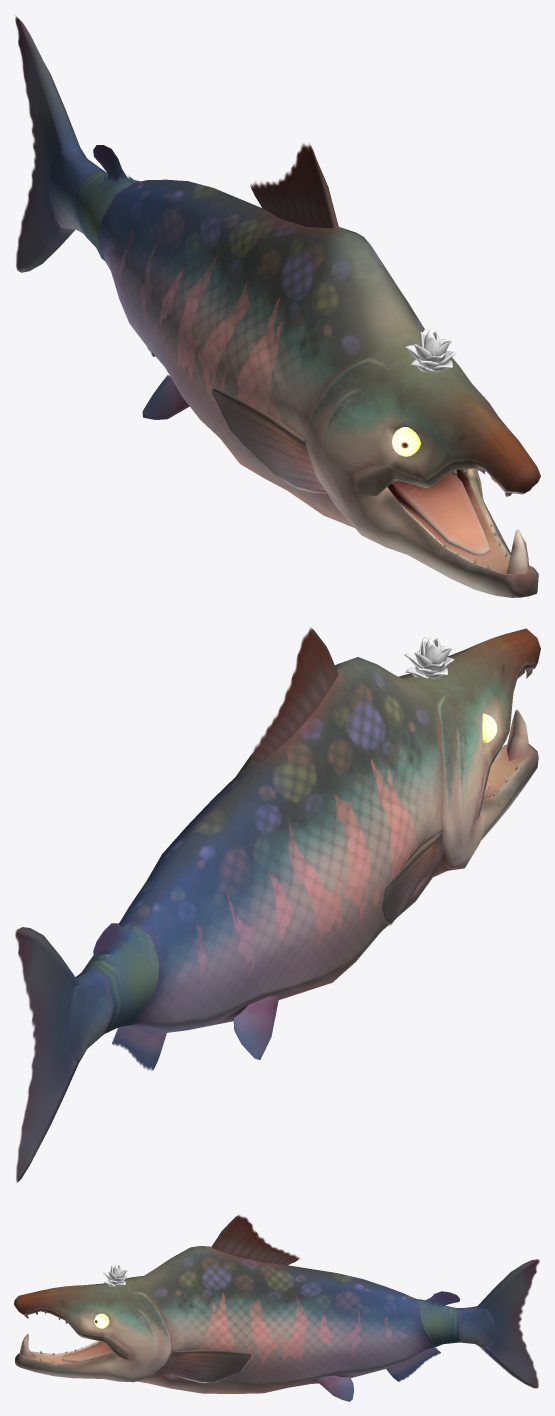
3 renders of one model, top to bottom at view 1: azimuth 30°, elevation 25°; view 2: azimuth 150°, elevation 25°; view 3: azimuth 270°, elevation 25°, orthographic. The views are drawn at different scales.
Parts seen in each view (by area): view 1: Body_Mesh__M_Body, Center1_low__M_Hair06, Eyes_Mesh__M_Body; view 2: Body_Mesh__M_Body, Center1_low__M_Hair06; view 3: Body_Mesh__M_Body, Center1_low__M_Hair06, Eyes_Mesh__M_Body.
Part boxes in pixels (x1=…): Body_Mesh__M_Body: x1=15, y1=16, x2=540, y2=597; Center1_low__M_Hair06: x1=405, y1=329, x2=456, y2=372; Eyes_Mesh__M_Body: x1=391, y1=427, x2=531, y2=569; Body_Mesh__M_Body: x1=15, y1=627, x2=540, y2=1182; Center1_low__M_Hair06: x1=404, y1=637, x2=453, y2=679; Body_Mesh__M_Body: x1=14, y1=1215, x2=539, y2=1401; Center1_low__M_Hair06: x1=103, y1=1264, x2=127, y2=1286; Eyes_Mesh__M_Body: x1=24, y1=1312, x2=109, y2=1363.
Bounding box in the file's own units: 35.3 × 68.06 × 183.
2 materials, 2 textured.
